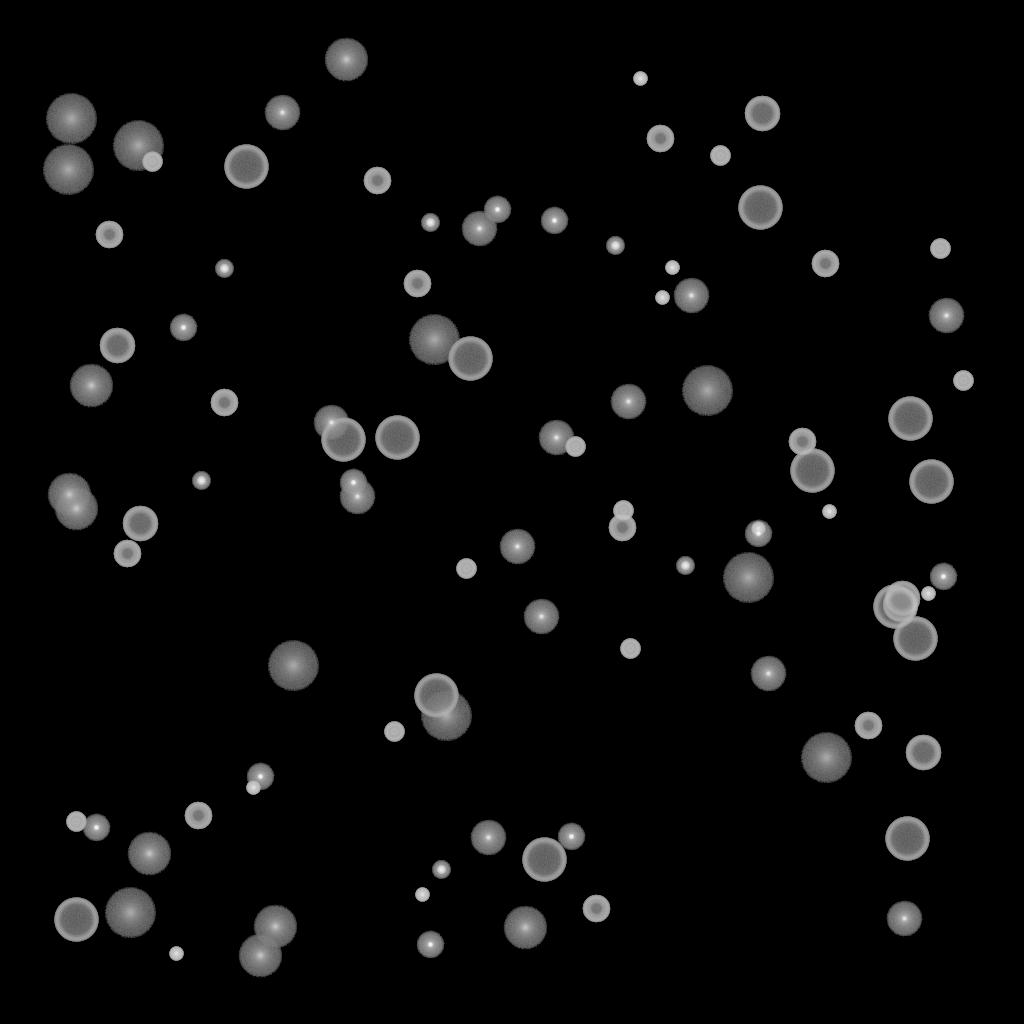depth:-10: (483, 196, 511, 224), (744, 520, 772, 548), (557, 823, 585, 851), (246, 763, 274, 791), (416, 931, 444, 959), (82, 814, 110, 842), (169, 314, 197, 342), (929, 563, 957, 591), (339, 469, 367, 497), (540, 207, 568, 235)
depth:-20: (432, 861, 450, 879), (192, 472, 210, 490), (606, 237, 624, 255), (215, 260, 233, 278), (421, 214, 439, 232), (676, 557, 694, 575)
depth:-30: (655, 291, 669, 305), (415, 888, 429, 902), (921, 587, 935, 601), (169, 947, 183, 961), (751, 522, 765, 536), (246, 781, 260, 795), (633, 72, 647, 86), (822, 505, 836, 519), (665, 261, 679, 275)
depth:-40: (930, 239, 950, 259), (456, 559, 476, 579), (953, 371, 973, 391), (710, 146, 730, 166), (142, 152, 162, 172), (565, 437, 585, 457), (620, 639, 640, 659), (66, 812, 86, 832), (384, 722, 404, 742), (613, 501, 633, 521)
depth:-50: (210, 389, 238, 417), (811, 250, 839, 278), (184, 802, 212, 830), (403, 270, 431, 298), (608, 514, 636, 542), (95, 221, 123, 249), (646, 125, 674, 153), (582, 895, 610, 923), (113, 540, 141, 568), (854, 712, 882, 740), (788, 428, 816, 456), (363, 167, 391, 195)
depth:-60: (882, 587, 918, 623), (122, 506, 158, 542), (905, 735, 941, 771), (744, 96, 780, 132), (884, 581, 920, 617), (99, 328, 135, 364)
depth:-70: (790, 449, 834, 493), (224, 145, 268, 189), (54, 898, 98, 942), (448, 337, 492, 381), (885, 817, 929, 861), (321, 418, 365, 462), (738, 186, 782, 230), (893, 617, 937, 661), (888, 397, 932, 441), (522, 838, 566, 882), (909, 460, 953, 504), (873, 585, 917, 629), (414, 674, 458, 718), (375, 416, 419, 460)
depth:0: (461, 211, 497, 247), (673, 278, 709, 314), (750, 656, 786, 692), (538, 420, 574, 456), (499, 529, 535, 565), (339, 479, 375, 515), (313, 405, 349, 441), (264, 95, 300, 131), (886, 901, 922, 937), (523, 599, 559, 635), (928, 298, 964, 334), (610, 384, 646, 420), (470, 820, 506, 856)
depth:10: (238, 934, 282, 978), (253, 905, 297, 949), (69, 364, 113, 408), (127, 832, 171, 876), (324, 38, 368, 82), (54, 487, 98, 531), (47, 473, 91, 517), (503, 906, 547, 950)
depth:20: (112, 121, 164, 171), (800, 733, 852, 783), (722, 553, 774, 603), (408, 315, 460, 365), (42, 145, 94, 195), (267, 641, 319, 691), (420, 691, 472, 741), (104, 888, 156, 938), (45, 94, 97, 144), (681, 366, 733, 416)
